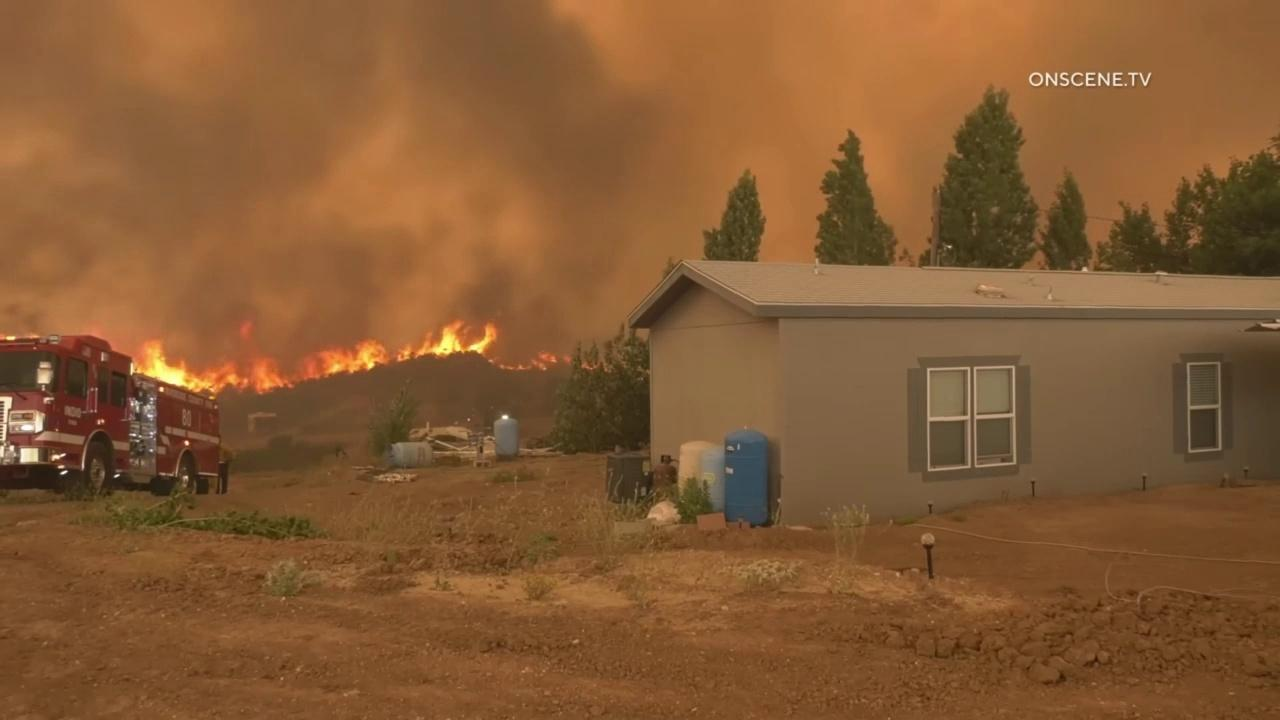fire: (133, 318, 498, 400), (499, 348, 558, 372), (562, 354, 573, 366), (581, 360, 594, 370)
smoke: (0, 0, 1280, 340)
